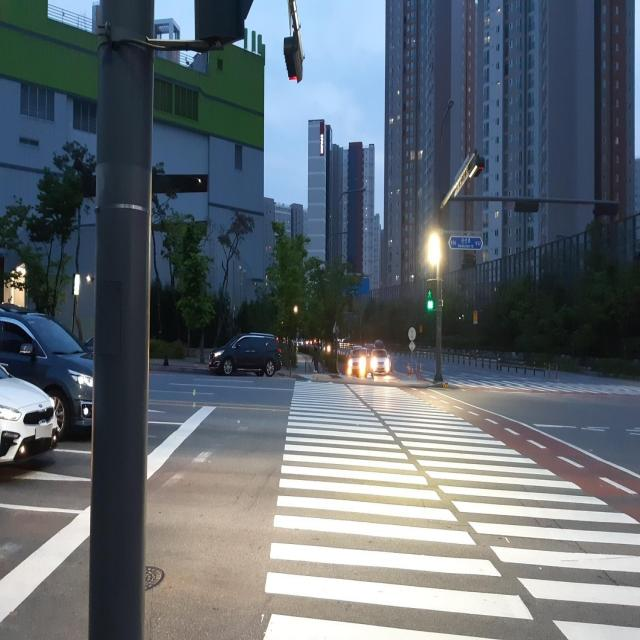횡단보도: (259, 379, 640, 639)
